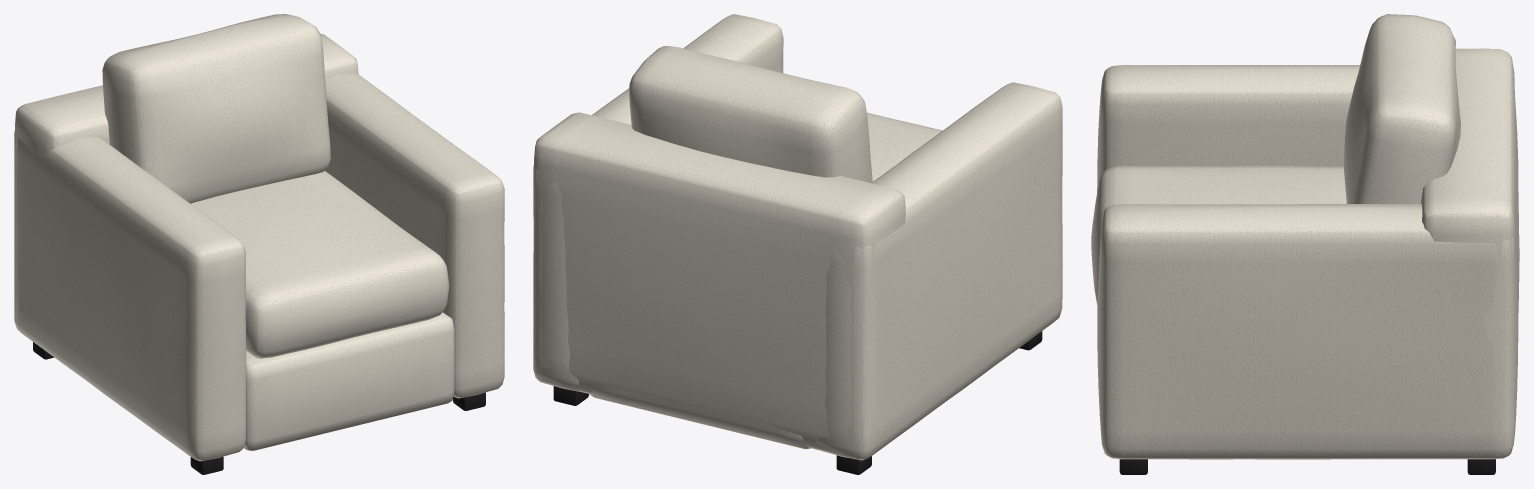
File: butaca_tapizada_boucle.glb
3 views of the same model, side by side, from view 1: azimuth 30°, elevation 25°; view 2: azimuth 150°, elevation 25°; view 3: azimuth 270°, elevation 25° (orthographic). The views are drawn at different scales.
Parts seen in each view (by area): view 1: butaca_tapizada_boucle; view 2: butaca_tapizada_boucle; view 3: butaca_tapizada_boucle.
Boxes of the visible parts, x1,y1,x2,y2 form: butaca_tapizada_boucle: (14,14,504,474); butaca_tapizada_boucle: (533,14,1062,474); butaca_tapizada_boucle: (1091,14,1519,474).
Size of the model in its own units: 0.8628 by 0.8059 by 0.911.
Materials: 2 (1 with a texture image).
